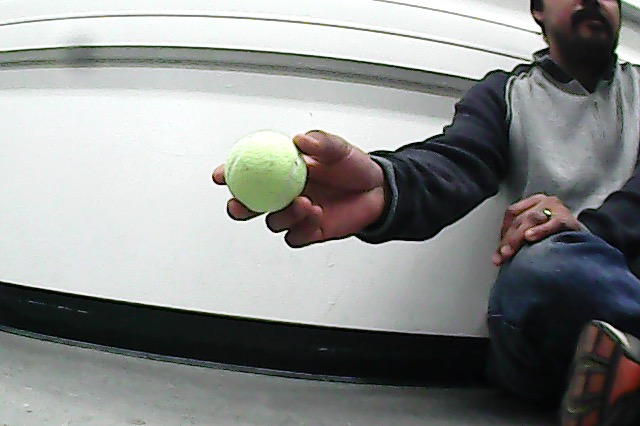ball: (223, 128, 309, 215)
